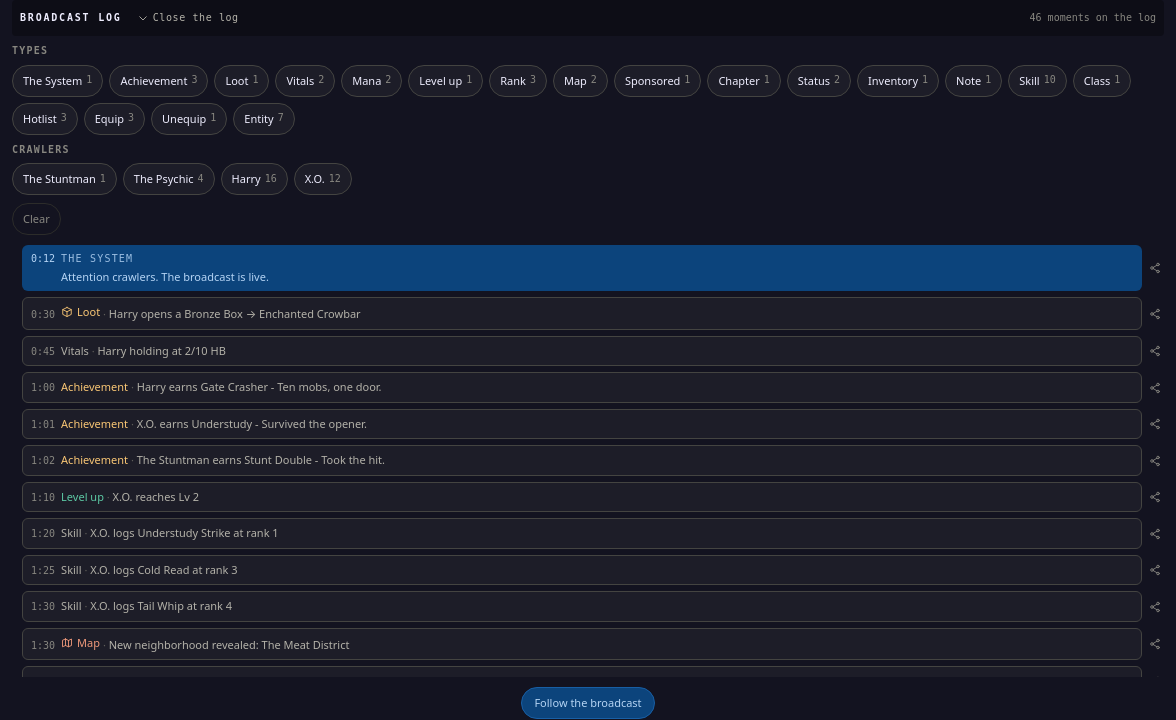
Scenario: EpisodeLog - following the broadcast › stops following when the viewer scrolls up, and offers the way back
Click the button with test id "log-follow" at (588,703), box [521,687,655,719]
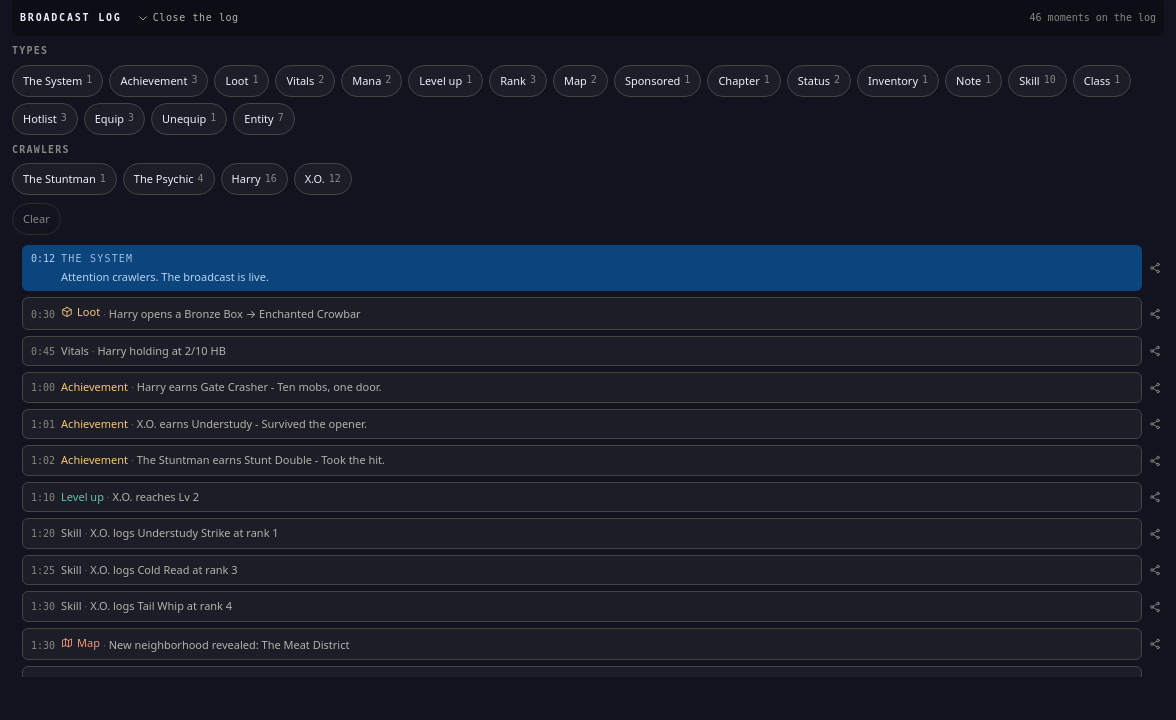
Result: the button with test id "log-follow" is gone
